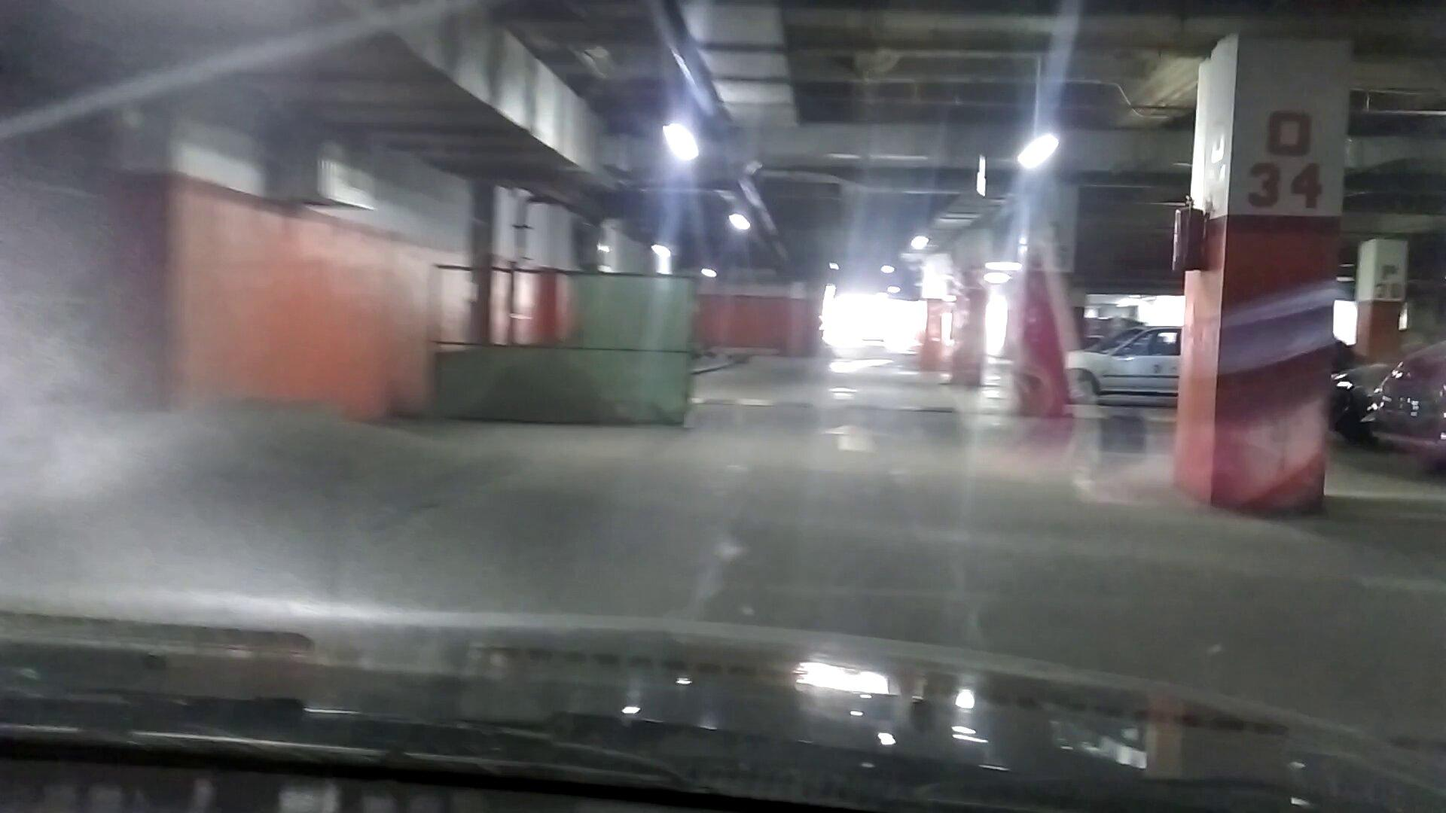Bump: (689, 394, 1023, 417)
